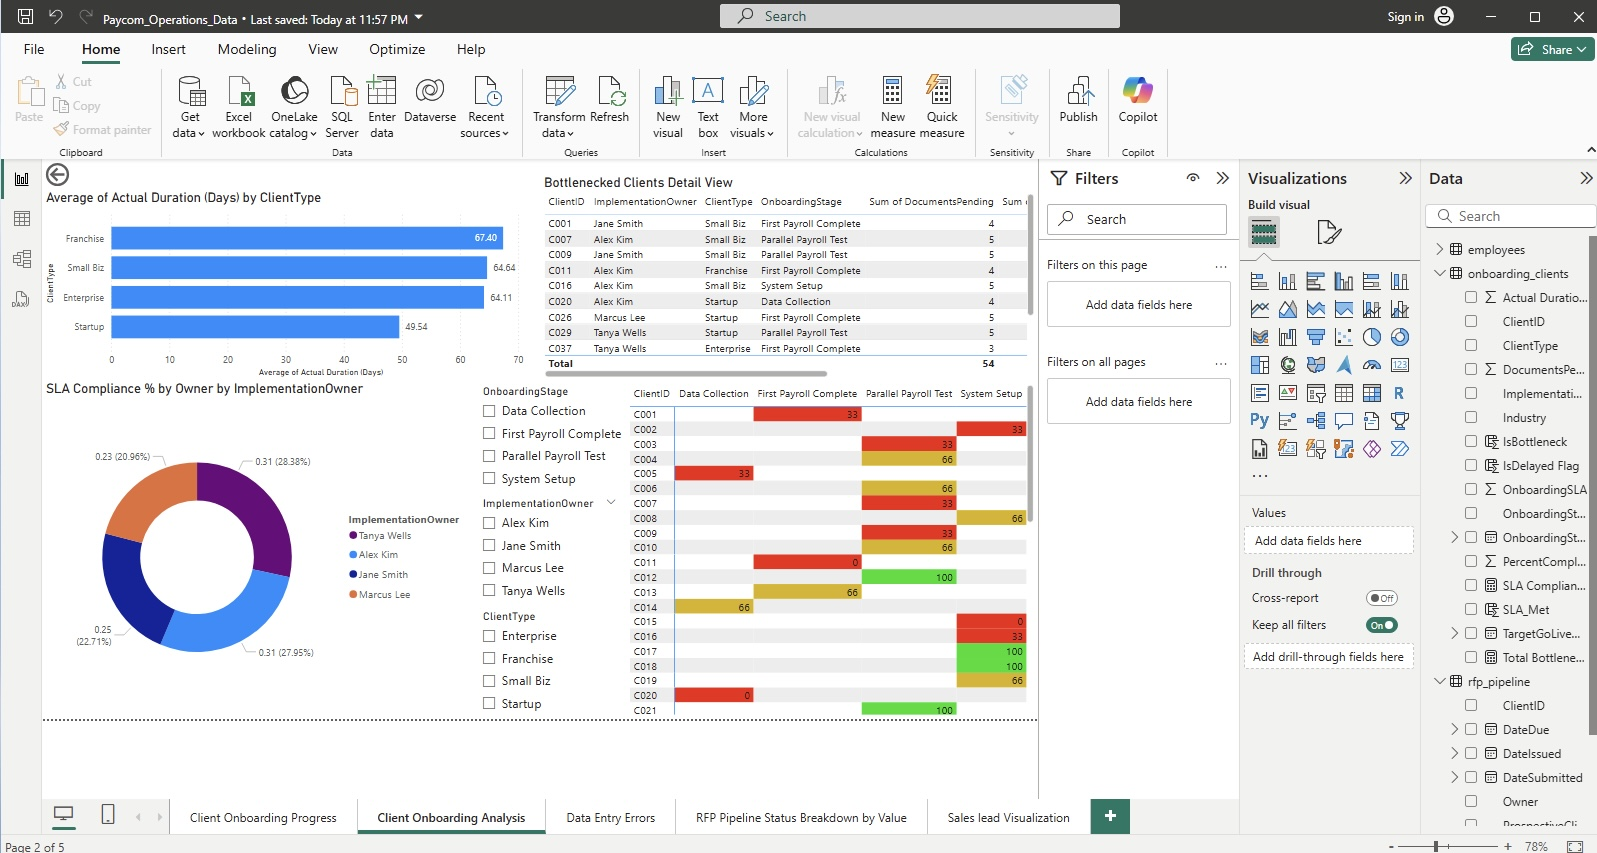

The page's visual inventory and layout, read from the dashboard file:
{"tool":"powerbi","page":{"name":"Client Onboarding Analysis","canvas":[1280,720],"ordinal":1},"visuals":[{"type":"clusteredBarChart","fields":{"Category":["onboarding_clients.ClientType"],"Y":["Avg(onboarding_clients.Actual Duration (Days))"]},"box":[0,39.8,640,245.5],"z":0},{"type":"donutChart","fields":{"Category":["onboarding_clients.ImplementationOwner"],"Y":["onboarding_clients.SLA Compliance % by Owner"]},"box":[0,285.3,553.9,434.4],"z":1000},{"type":"tableEx","title":"Bottlenecked Clients Detail View","fields":{"Values":["onboarding_clients.ClientID","onboarding_clients.ImplementationOwner","onboarding_clients.ClientType","onboarding_clients.OnboardingStage","Sum(onboarding_clients.DocumentsPending)","Sum(onboarding_clients.PercentComplete)","Sum(onboarding_clients.Actual Duration (Days))","Sum(onboarding_clients.IsBottleneck)"]},"box":[640,20.6,640,264.7],"z":2000},{"type":"pivotTable","fields":{"Rows":["onboarding_clients.ClientID"],"Columns":["onboarding_clients.OnboardingStage"],"Values":["Sum(onboarding_clients.PercentComplete)"]},"box":[750.5,285.3,529.5,434.4],"z":3000},{"type":"actionButton","box":[0,0,47.6,39.8],"z":4000},{"type":"slicer","fields":{"Values":["onboarding_clients.OnboardingStage"]},"box":[553.9,285.3,196.6,143.9],"z":4001},{"type":"slicer","fields":{"Values":["onboarding_clients.ClientType"]},"box":[553.9,574.5,122.1,145.2],"z":4002},{"type":"slicer","fields":{"Values":["onboarding_clients.ImplementationOwner"]},"box":[553.9,429.2,196.6,145.2],"z":4003}]}

Visuals, with their boxes on the page's 1280x720 design canvas (x1, y1, x2, y2). These are canvas units, not pixel positions in the 1597x853 screenshot, which may show the page scaled, cropped or inside an application window:
clusteredBarChart - onboarding_clients.ClientType x Avg(onboarding_clients.Actual Duration (Days)): detection(0, 40, 640, 285)
donutChart - onboarding_clients.ImplementationOwner x onboarding_clients.SLA Compliance % by Owner: detection(0, 285, 554, 720)
"Bottlenecked Clients Detail View" tableEx: detection(640, 21, 1280, 285)
pivotTable - onboarding_clients.ClientID x onboarding_clients.OnboardingStage: detection(750, 285, 1280, 720)
actionButton: detection(0, 0, 48, 40)
slicer - onboarding_clients.OnboardingStage: detection(554, 285, 750, 429)
slicer - onboarding_clients.ClientType: detection(554, 574, 676, 720)
slicer - onboarding_clients.ImplementationOwner: detection(554, 429, 750, 574)
